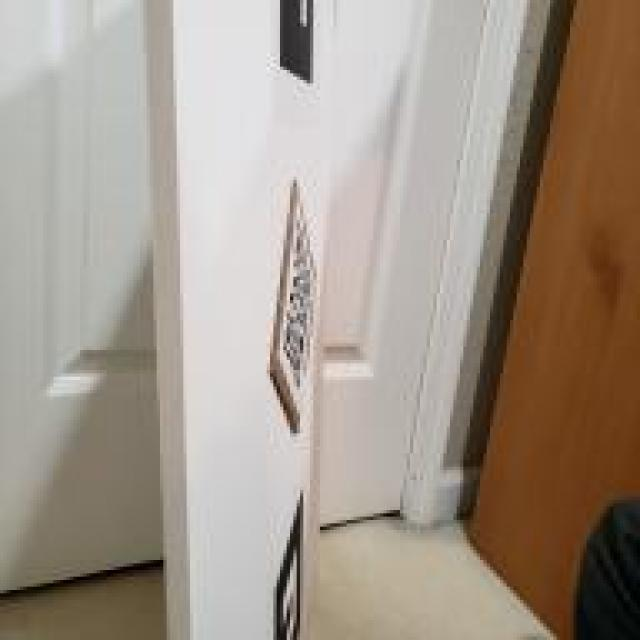QR_CODE: (277, 210, 320, 403)
